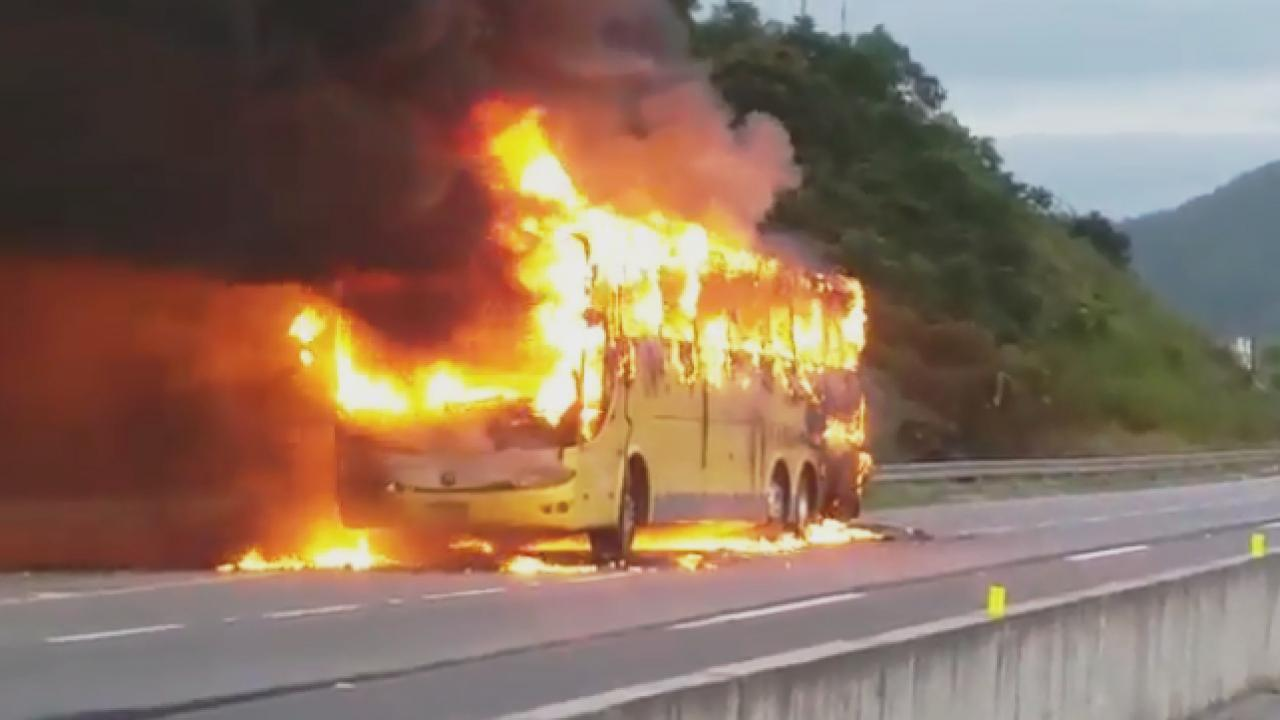Fire: (492, 112, 868, 432), (282, 311, 493, 427), (195, 524, 401, 577), (641, 520, 888, 552), (819, 397, 872, 484), (502, 555, 604, 579), (524, 530, 596, 552), (444, 536, 494, 554)
